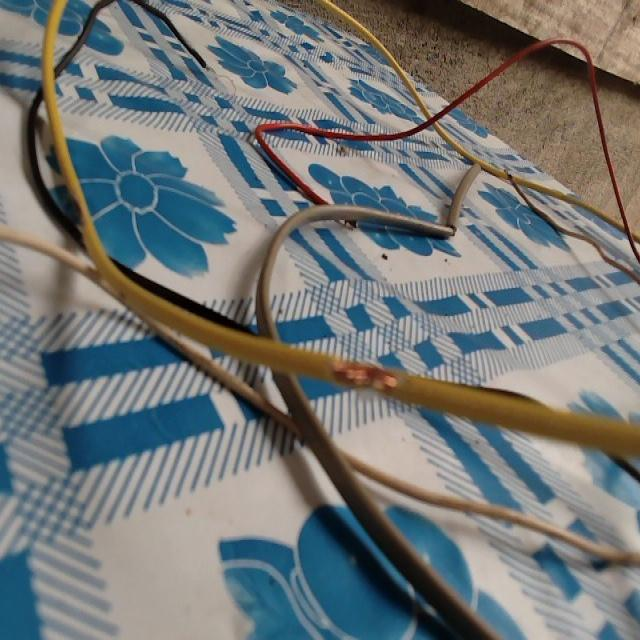-: (326, 351, 405, 404), (439, 211, 459, 237), (198, 56, 217, 76), (501, 164, 519, 183)
